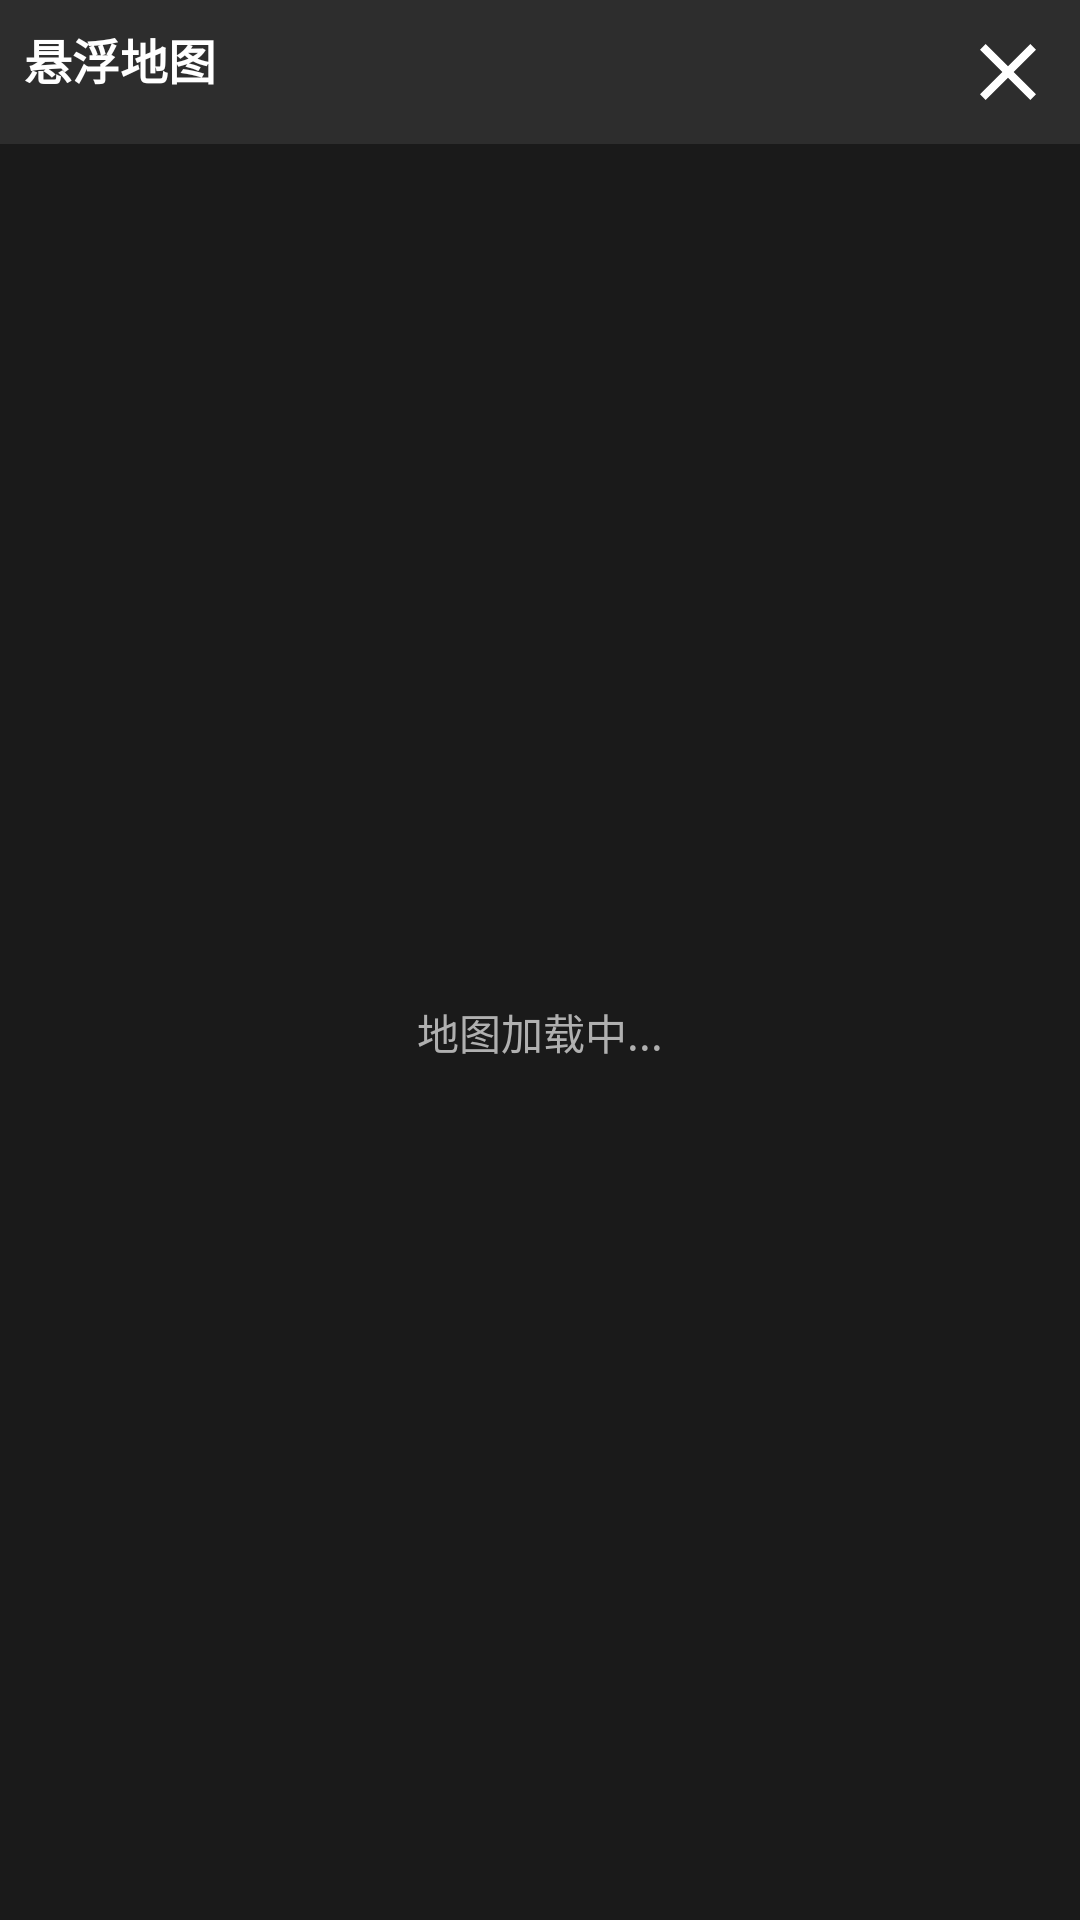

Named icons in this screenshot (1080*1920) and their bounding boxes, bbox=(x1, y1, x2, y2):
关闭: bbox=(980, 44, 1036, 100)
